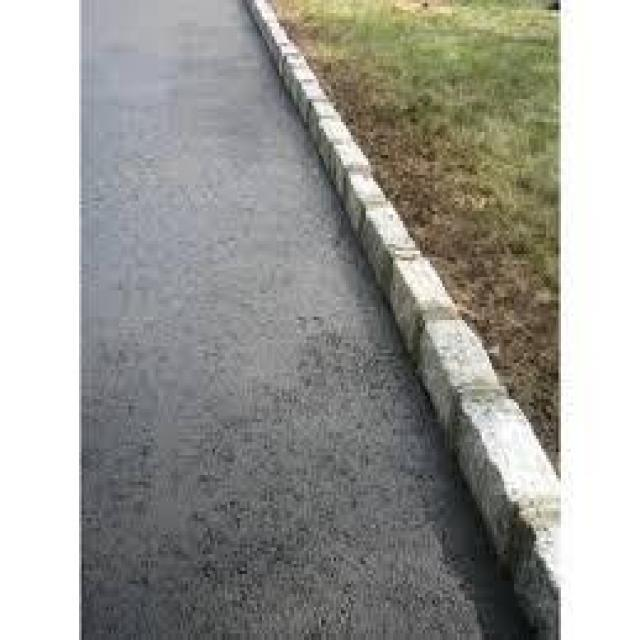curb: (241, 1, 565, 640)
